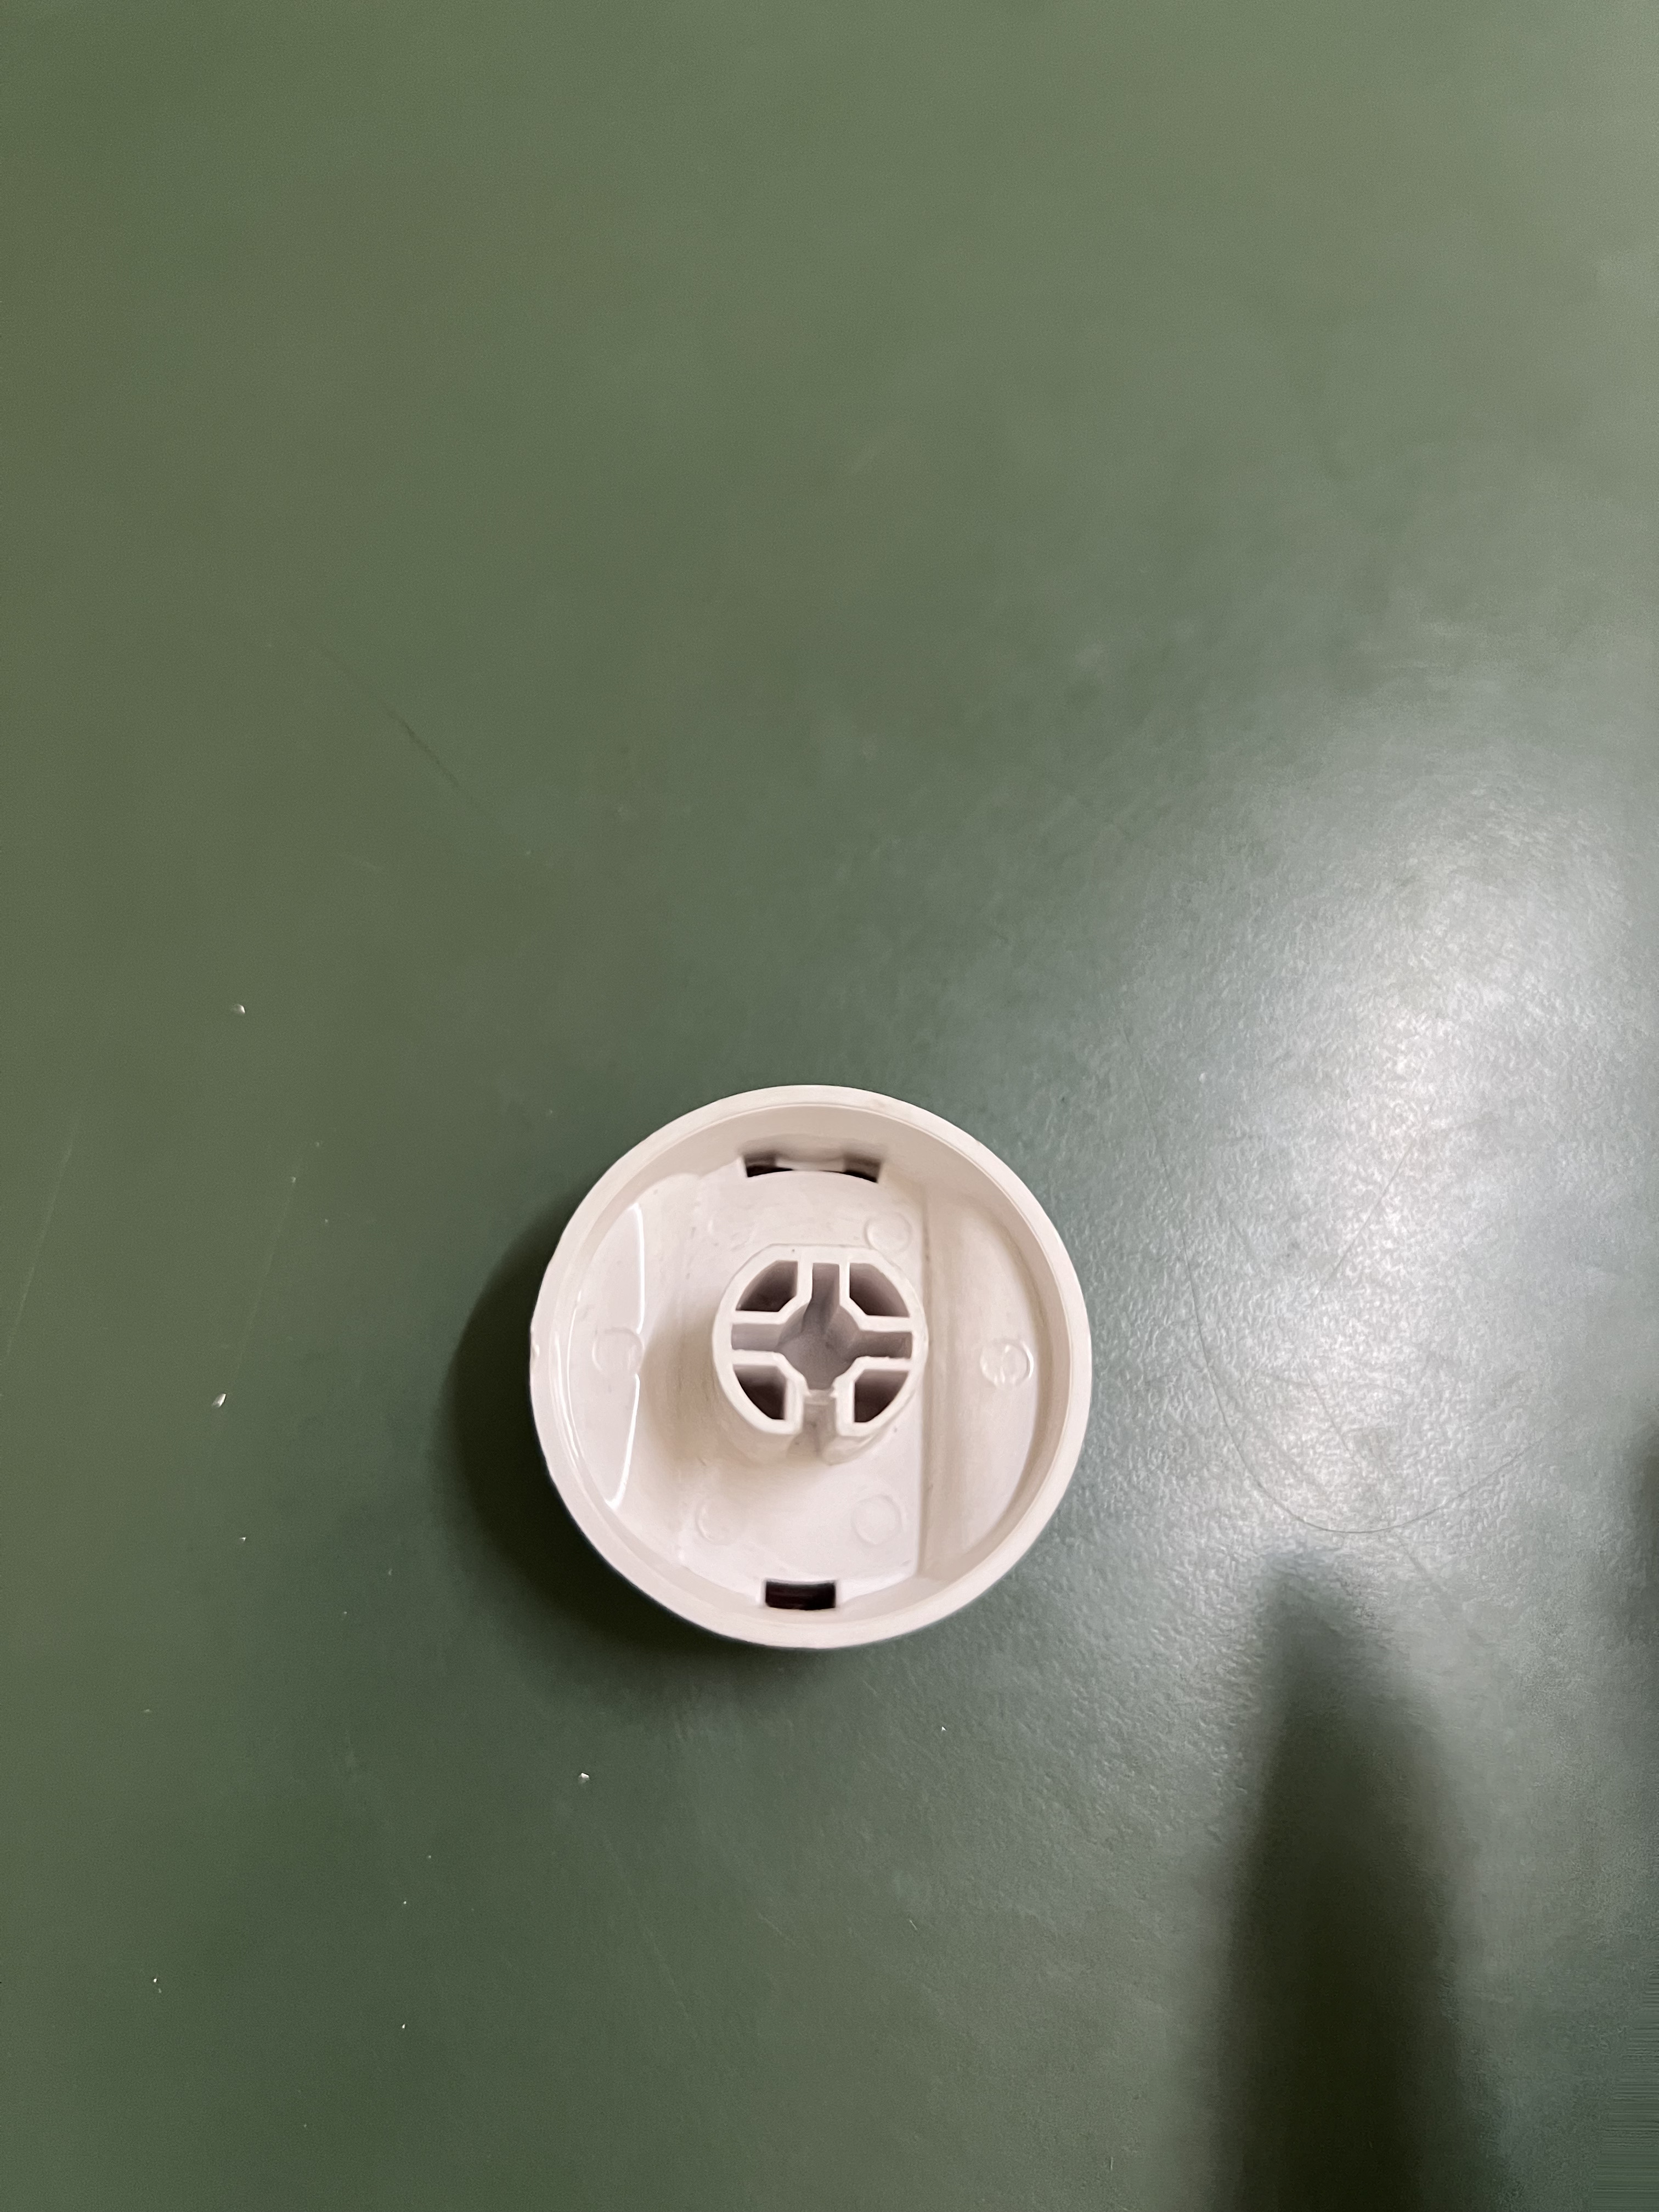regulator: (398, 1017, 1173, 1648)
